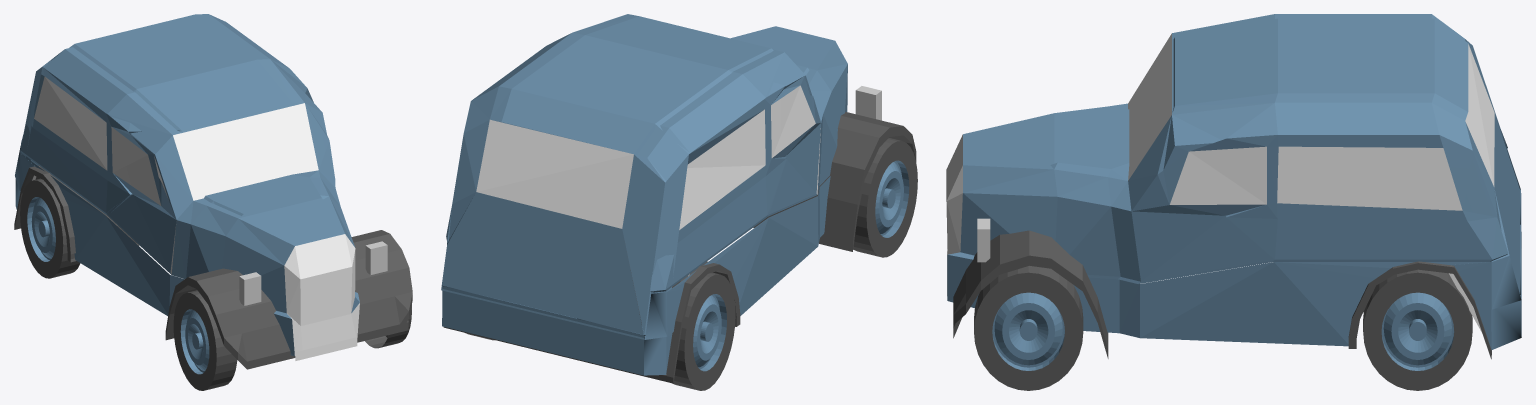
File: morris-eight.dae
3 renders of one model, left to right at view 1: azimuth 30°, elevation 25°; view 2: azimuth 150°, elevation 25°; view 3: azimuth 270°, elevation 25°, orthographic. The views are drawn at different scales.
Parts seen in each view (by area): view 1: Cube_016, Cube_017, Circle_007, Circle_008, Cube_463; view 2: Cube_016, Cube_017, Circle_007, Circle_008, Cube_463; view 3: Cube_016, Circle_007, Circle_008, Cube_017, Cube_463.
Boxes of the visible parts, x1=… form: Cube_016: x1=15, y1=14, x2=359, y2=360; Cube_017: x1=14, y1=156, x2=412, y2=369; Circle_007: x1=173, y1=290, x2=411, y2=390; Circle_008: x1=20, y1=178, x2=80, y2=278; Cube_463: x1=239, y1=241, x2=387, y2=305; Cube_016: x1=441, y1=14, x2=847, y2=375; Cube_017: x1=443, y1=112, x2=916, y2=383; Circle_007: x1=853, y1=138, x2=917, y2=257; Circle_008: x1=465, y1=272, x2=735, y2=390; Cube_463: x1=855, y1=86, x2=881, y2=120; Cube_016: x1=946, y1=14, x2=1521, y2=349; Circle_007: x1=974, y1=266, x2=1083, y2=390; Circle_008: x1=1363, y1=269, x2=1472, y2=390; Cube_017: x1=953, y1=230, x2=1491, y2=359; Cube_463: x1=977, y1=218, x2=990, y2=262.
Size of the model in its own units: 1.04 by 2.09 by 1.11.
